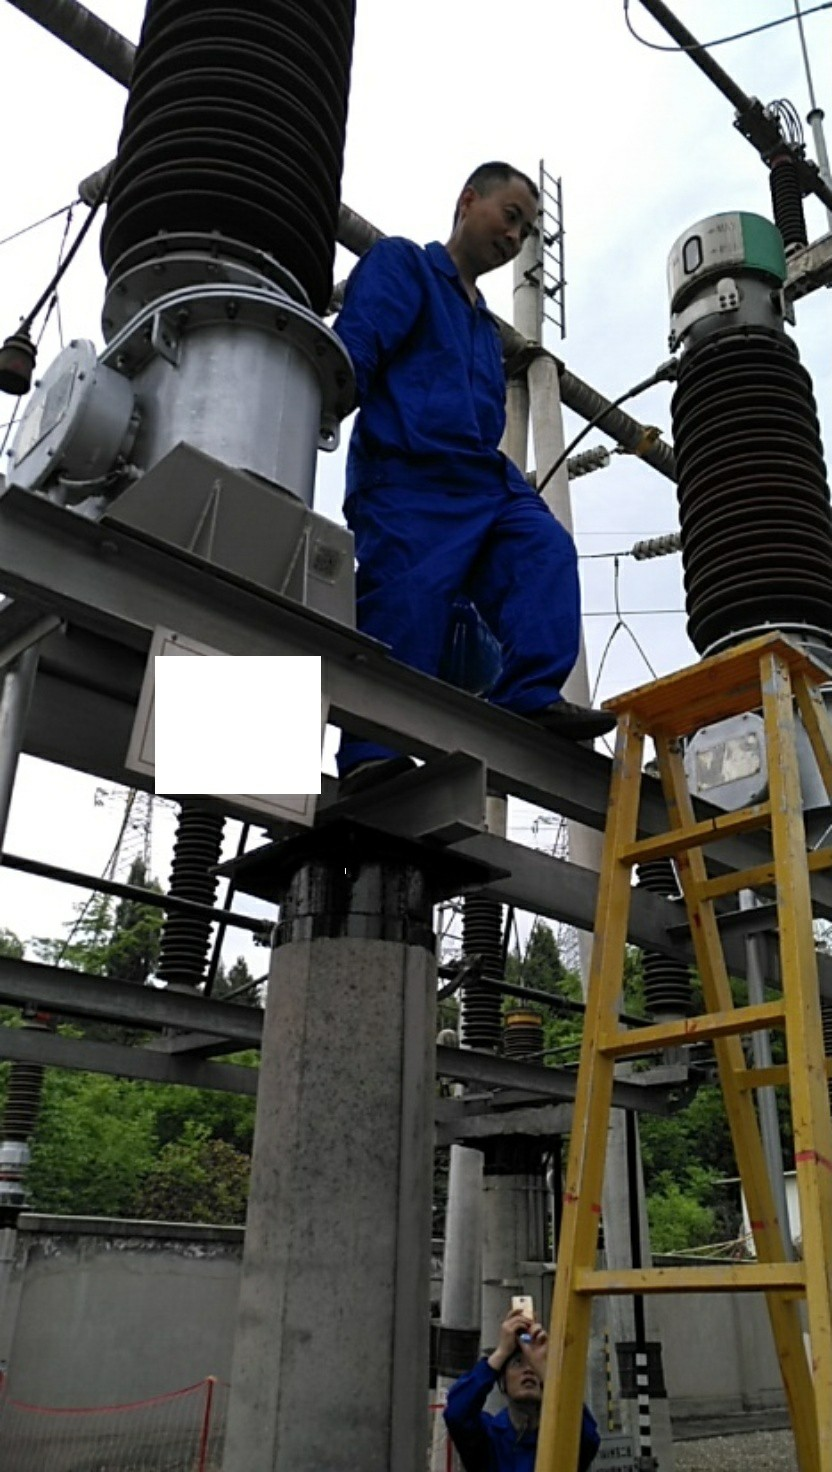no-hat: (438, 154, 544, 286), (487, 1335, 554, 1407)
